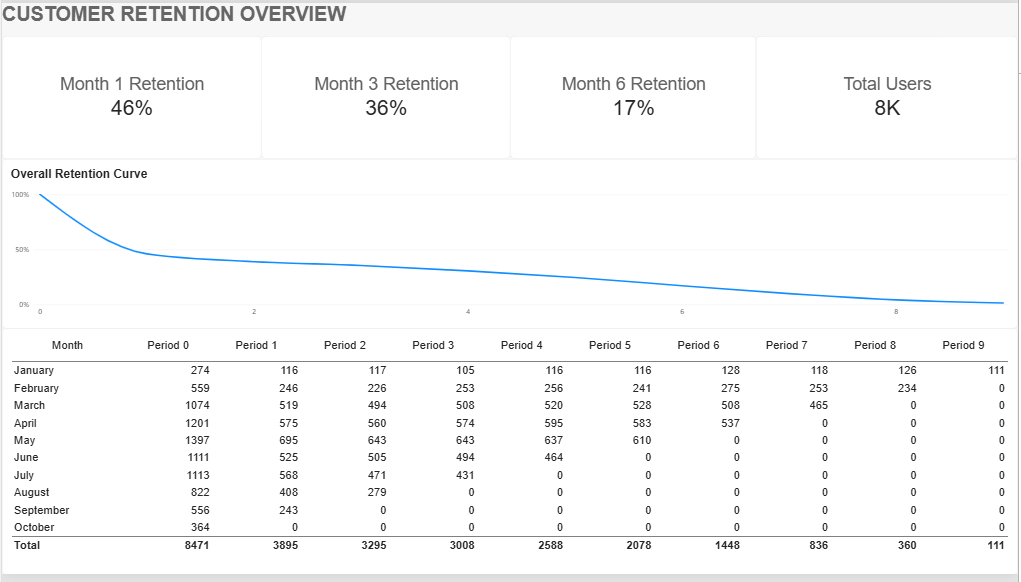

The page's visual inventory and layout, read from the dashboard file:
{"tool":"powerbi","page":{"name":"Page 1","canvas":[1920,1080],"ordinal":0},"visuals":[{"type":"cardVisual","fields":{"Data":["retention_curve.Month 1 Retention"]},"box":[0,62.4,490.4,232.4],"z":0},{"type":"cardVisual","fields":{"Data":["retention_curve.Month 6 Retention"]},"box":[961,62.4,464.9,232.4],"z":1},{"type":"cardVisual","fields":{"Data":["retention_curve.Month 3 Retention"]},"box":[490.4,62.4,470.6,232.4],"z":2},{"type":"cardVisual","fields":{"Data":["retention_curve.Total Users"]},"box":[1425.8,62.4,493.2,232.4],"z":3},{"type":"textbox","box":[0,0,1768.8,62.4],"z":4},{"type":"lineChart","title":"Overall Retention Curve","fields":{"Category":["retention_curve.period"],"Y":["Sum(retention_curve.pct_retained)"]},"box":[0,294.8,1919.1,320.3],"z":5},{"type":"tableEx","fields":{"Values":["retention_table.cohort_month.Variation.Date Hierarchy.Month","Sum(retention_table.p0)","Sum(retention_table.p1)","Sum(retention_table.p2)","Sum(retention_table.p3)","Sum(retention_table.p4)","Sum(retention_table.p5)","Sum(retention_table.p6)","Sum(retention_table.p7)","Sum(retention_table.p8)","Sum(retention_table.p9)"]},"box":[0,615.1,1919.1,464.9],"z":6}]}

Visuals, with their boxes in screenshot pixels (x1, y1, x2, y2), scaled from the page's 1920x1080 canvas onto the 1021x582 screenshot:
cardVisual - retention_curve.Month 1 Retention: [0,34,261,159]
cardVisual - retention_curve.Month 6 Retention: [511,34,758,159]
cardVisual - retention_curve.Month 3 Retention: [261,34,511,159]
cardVisual - retention_curve.Total Users: [758,34,1020,159]
textbox: [0,0,941,34]
"Overall Retention Curve" lineChart: [0,159,1020,331]
tableEx - retention_table.cohort_month.Variation.Date Hierarchy.Month x Sum(retention_table.p0): [0,331,1020,581]
